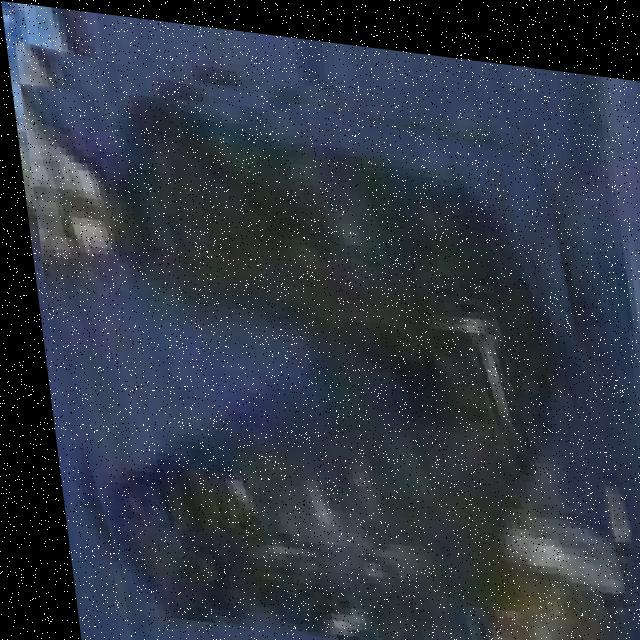litter: (12, 36, 628, 640)
